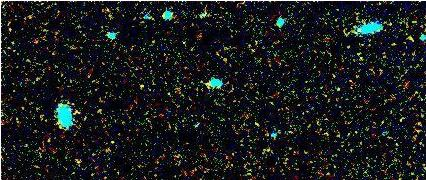star: (125, 71, 155, 101)
